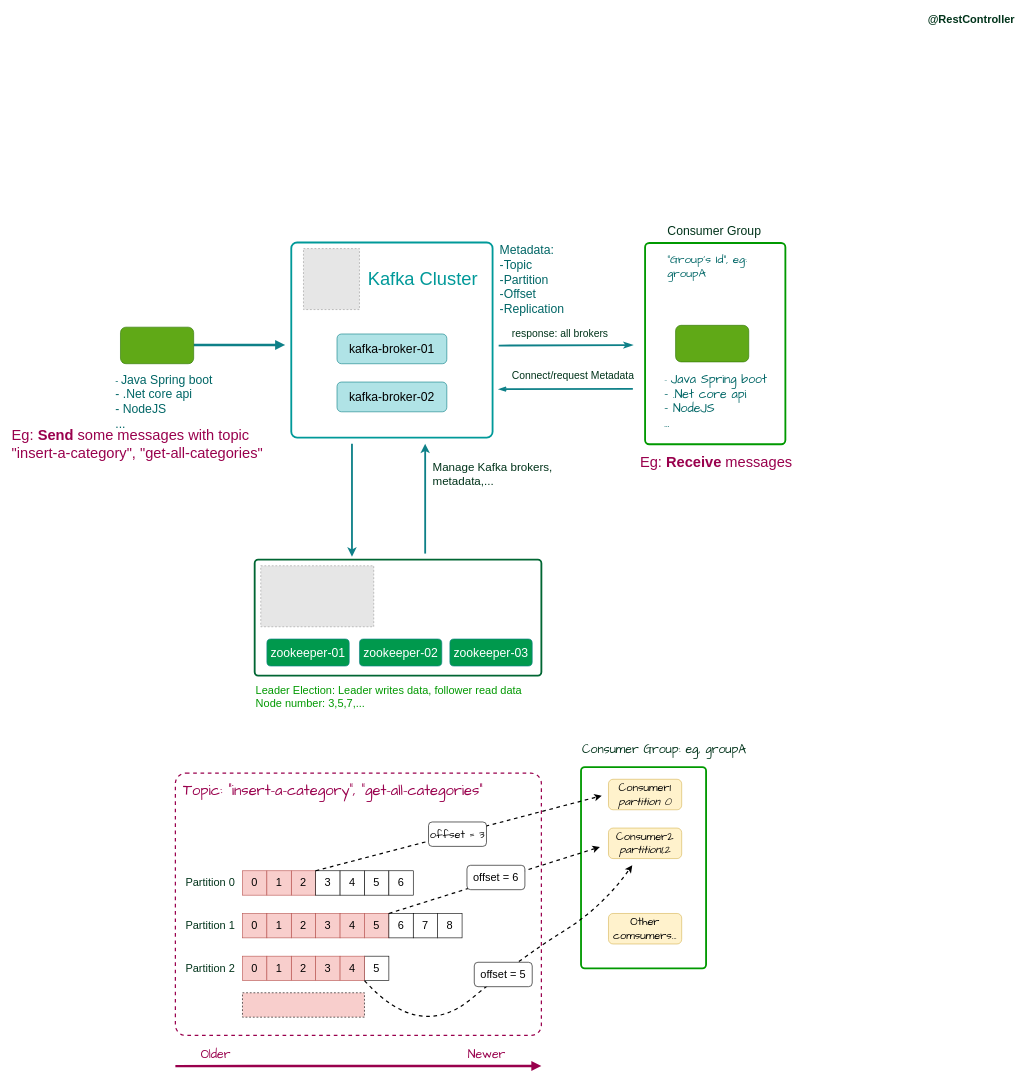
Some shapes in this 1025 by 1083 pixel diagram are drawn without their labels. Grey dashed boxes stand in for pictures. Each missing label, with the centre of its shape:
Committed offsets: point (303, 1004)
Consumer: point (712, 343)
Producer: point (157, 345)
